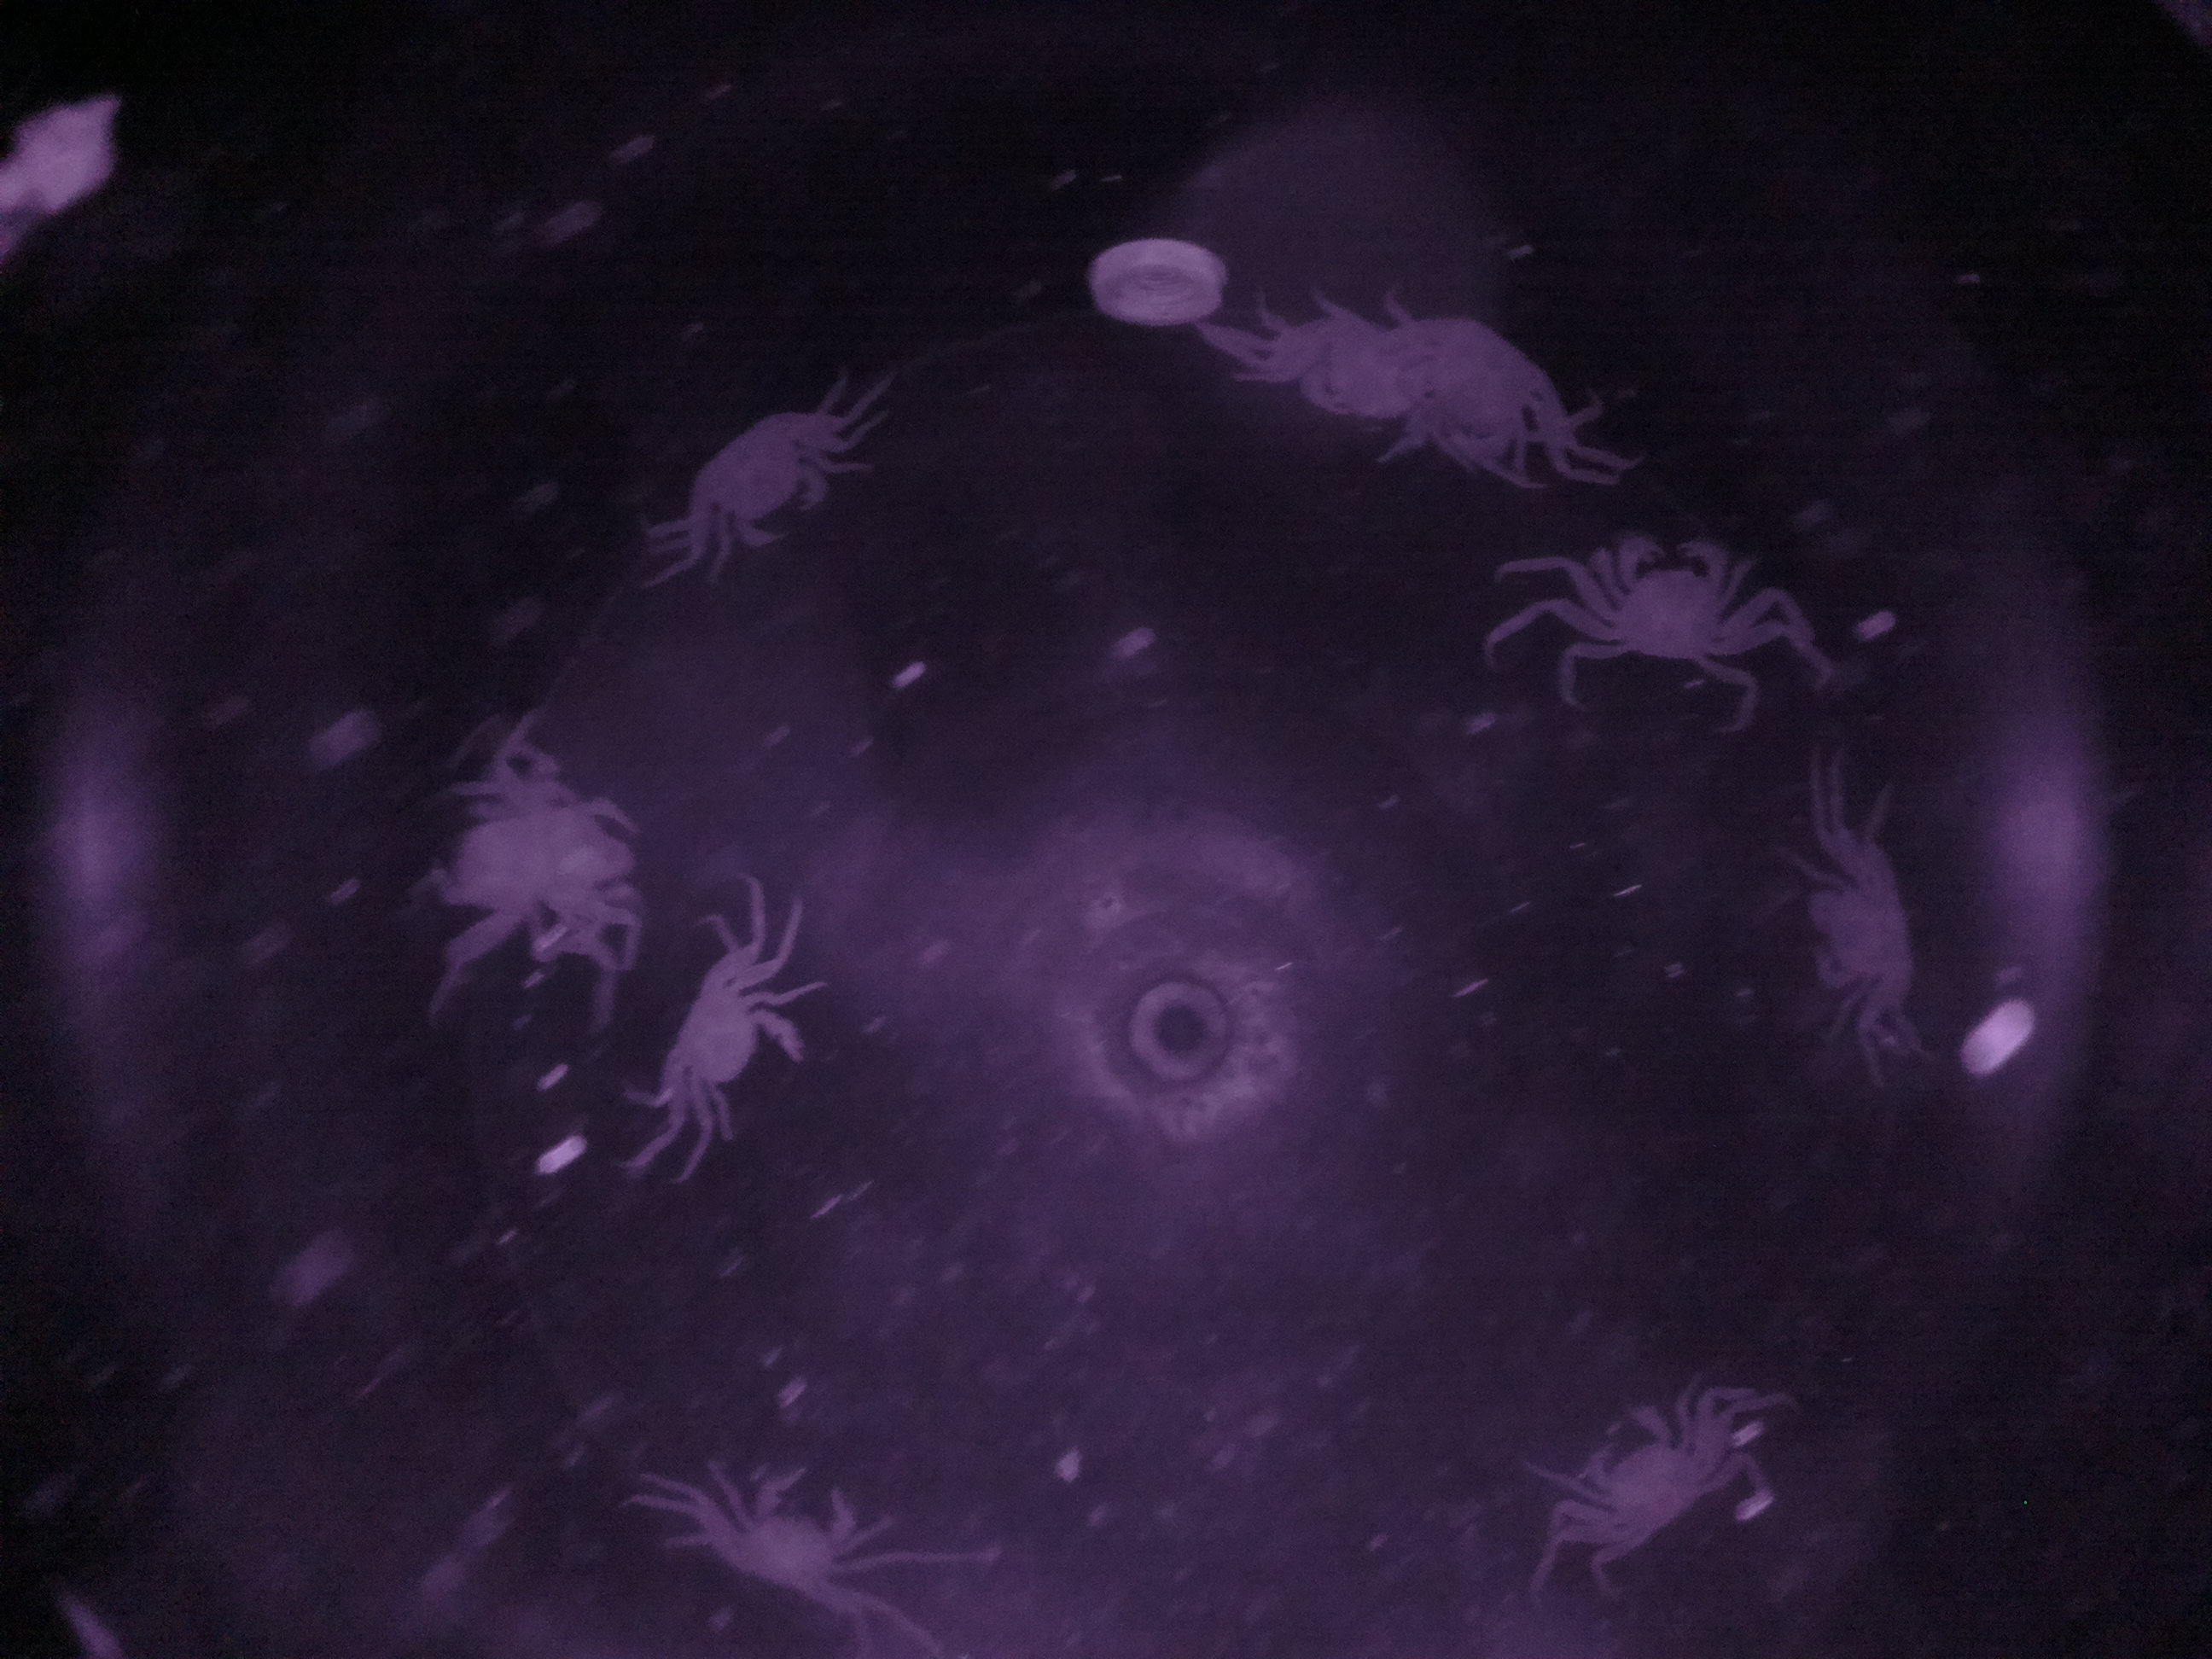Crab: (1554, 509, 1778, 694), (671, 394, 878, 575), (1555, 1384, 1731, 1584), (683, 1450, 888, 1619), (636, 950, 812, 1133)
